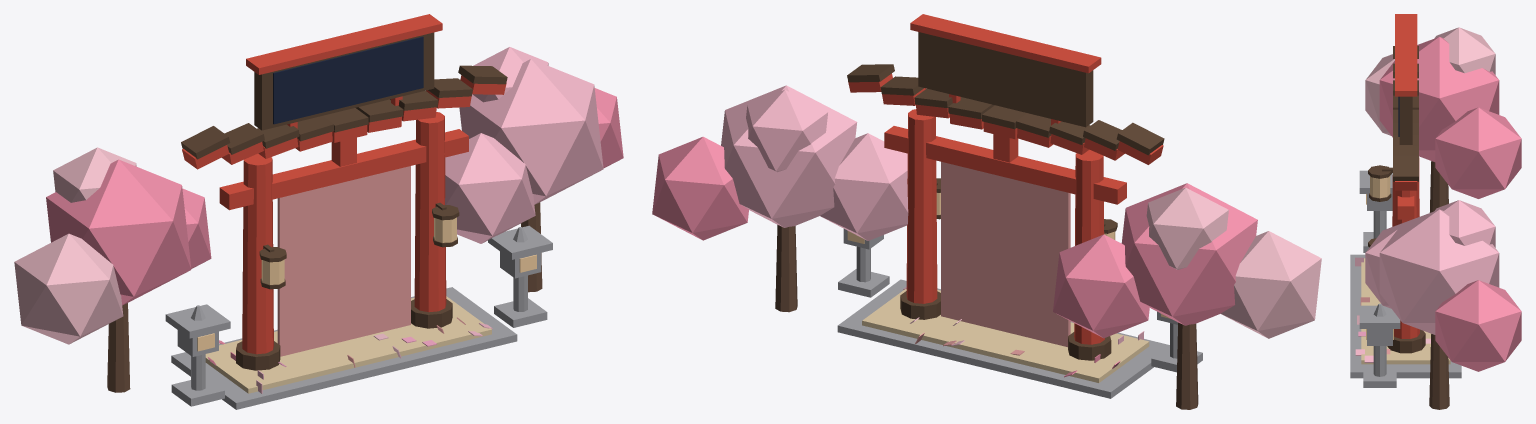
File: CatCafe_Cherry_Portal.glb
3 views of the same model, side by side, from view 1: azimuth 30°, elevation 25°; view 2: azimuth 150°, elevation 25°; view 3: azimuth 270°, elevation 25° (orthographic). The views are drawn at different scales.
Parts seen in each view (by area): view 1: CatCafe_Cherry_Portal, CatCafe_Cherry_Portal_Portal_Glow, CatCafe_Cherry_Portal_Screen, CatCafe_Cherry_Portal_Glow; view 2: CatCafe_Cherry_Portal, CatCafe_Cherry_Portal_Portal_Glow; view 3: CatCafe_Cherry_Portal, CatCafe_Cherry_Portal_Glow.
Part boxes in pixels (x1=…): CatCafe_Cherry_Portal: x1=14, y1=14, x2=623, y2=409; CatCafe_Cherry_Portal_Portal_Glow: x1=277, y1=166, x2=410, y2=356; CatCafe_Cherry_Portal_Screen: x1=273, y1=36, x2=423, y2=124; CatCafe_Cherry_Portal_Glow: x1=197, y1=217, x2=536, y2=351; CatCafe_Cherry_Portal: x1=652, y1=14, x2=1321, y2=409; CatCafe_Cherry_Portal_Portal_Glow: x1=941, y1=161, x2=1070, y2=347; CatCafe_Cherry_Portal: x1=1350, y1=14, x2=1521, y2=409; CatCafe_Cherry_Portal_Glow: x1=1366, y1=176, x2=1393, y2=339.
Bounding box in the file's own units: 33.91 × 15.85 × 9.22.
Materials: 1 (1 with a texture image).
